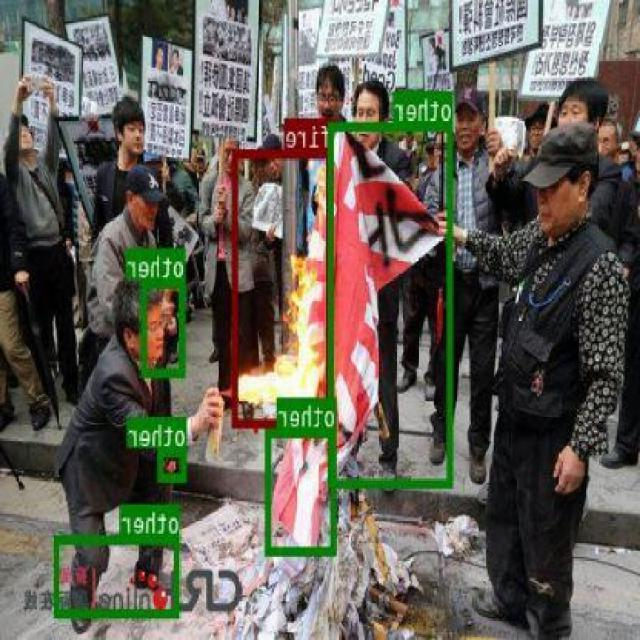Fire: (233, 148, 335, 426)
